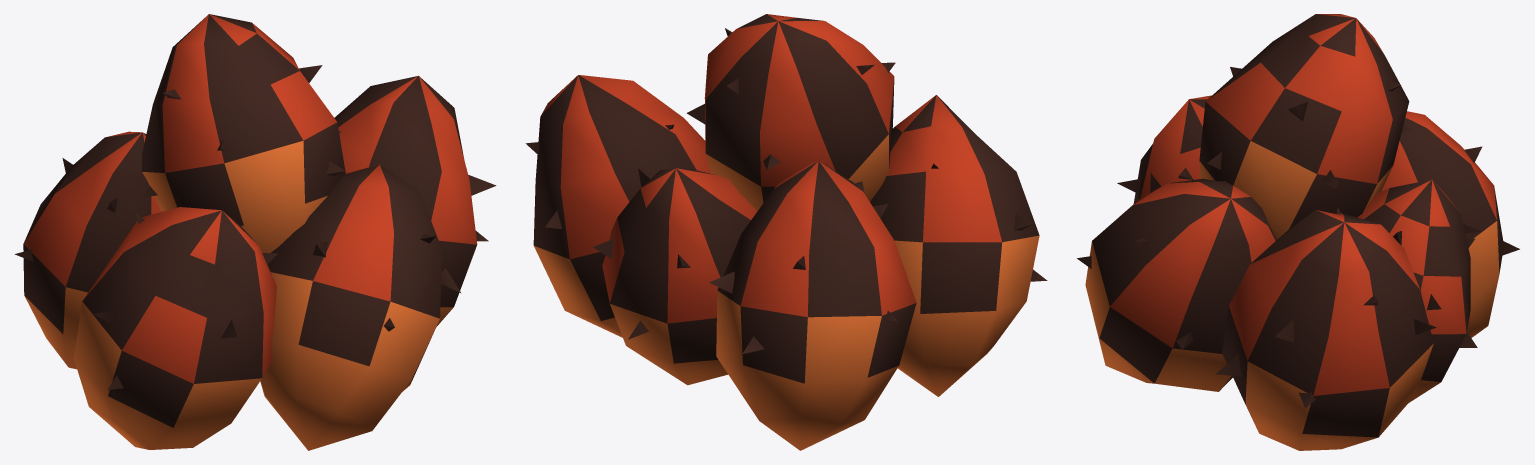
Rendered from tumpukan_tbs.glb.
3 views of the same model, side by side, from view 1: azimuth 30°, elevation 25°; view 2: azimuth 150°, elevation 25°; view 3: azimuth 270°, elevation 25° (orthographic). The views are drawn at different scales.
Visible parts, largest first — view 1: tumpukan_tbs_mesh; view 2: tumpukan_tbs_mesh; view 3: tumpukan_tbs_mesh.
Part boxes in pixels (<box>): tumpukan_tbs_mesh: <box>14,14,496,450</box>; tumpukan_tbs_mesh: <box>525,14,1047,450</box>; tumpukan_tbs_mesh: <box>1077,14,1519,450</box>.
Bounding box in the file's own units: 1.16 × 0.9491 × 1.02.
